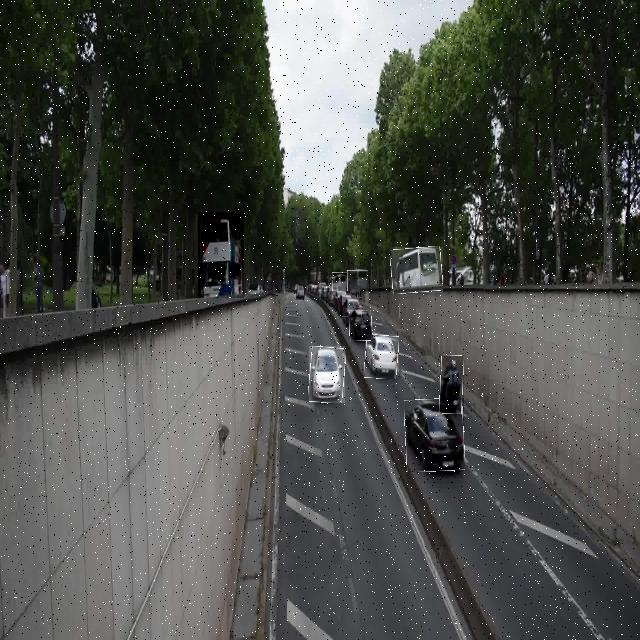Bus: (198, 212, 244, 298), (391, 247, 443, 293), (347, 270, 368, 291), (332, 272, 347, 291)
Car: (405, 398, 464, 472), (309, 346, 345, 403), (365, 334, 399, 378), (350, 311, 372, 341), (342, 297, 362, 317), (296, 284, 306, 302)
Motorcycle: (440, 356, 464, 414)
